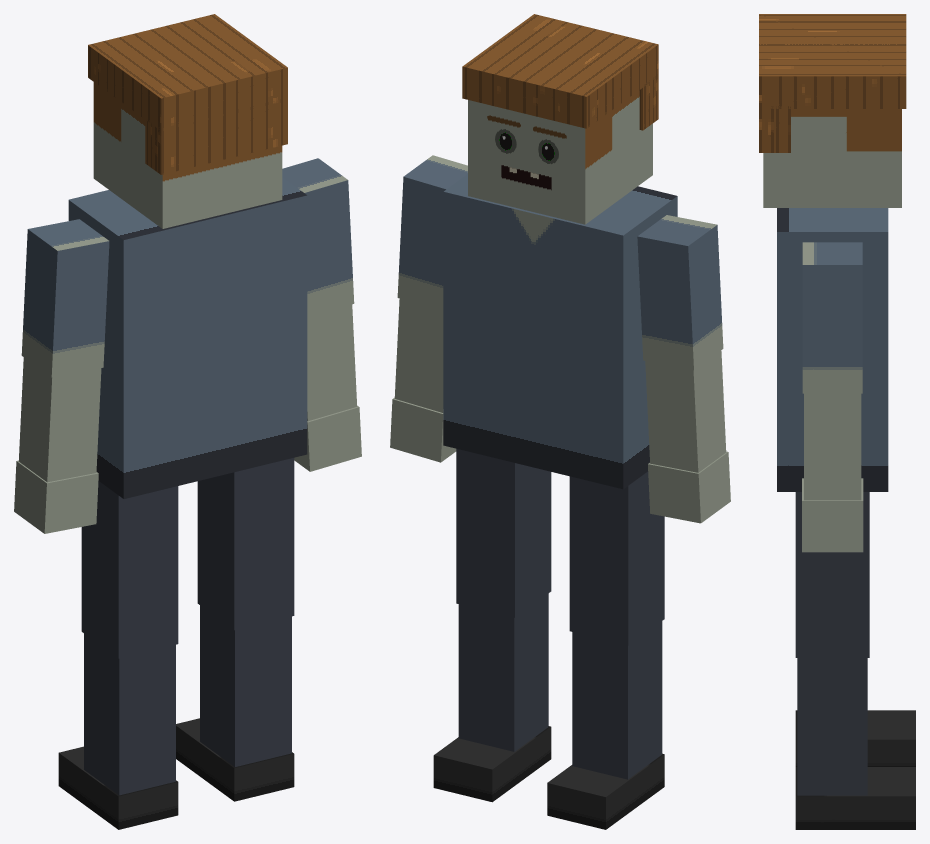
The model's file is hair_short.glb.
3 views of the same model, side by side, from view 1: azimuth 30°, elevation 25°; view 2: azimuth 150°, elevation 25°; view 3: azimuth 270°, elevation 25° (orthographic). The views are drawn at different scales.
Parts seen in each view (by area): view 1: block_torso, block_hair-cap, block_thigh.L, block_thigh.R, block_head, block_shin.L, block_shin.R, block_upper_arm.L, block_forearm.L, block_upper_arm.R, block_hair-back, block_forearm.R (+4 smaller); view 2: block_torso, block_head, block_hair-cap, block_thigh.L, block_thigh.R, block_shin.R, block_shin.L, block_upper_arm.L, block_forearm.L, block_upper_arm.R, block_foot.R, block_foot.L (+4 smaller); view 3: block_torso, block_hair-cap, block_head, block_shin.R, block_upper_arm.R, block_thigh.R, block_forearm.R, block_foot.R, block_hand.R, block_foot.L, block_hair-back.
Boxes of the visible parts, x1,y1,x2,y2 form: block_torso: (68,177,307,498); block_hair-cap: (88,14,287,130); block_thigh.L: (81,481,178,658); block_thigh.R: (197,458,294,630); block_head: (93,82,282,228); block_shin.L: (84,633,175,795); block_shin.R: (200,605,291,766); block_upper_arm.L: (21,219,109,377); block_forearm.L: (18,357,101,482); block_upper_arm.R: (282,158,354,317); block_hair-back: (145,98,287,174); block_forearm.R: (307,304,357,421); block_torso: (443,174,677,489); block_head: (468,90,652,224); block_hair-cap: (462,14,658,128); block_thigh.L: (569,471,664,645); block_thigh.R: (456,448,551,617); block_shin.R: (458,593,548,751); block_shin.L: (572,621,662,779); block_upper_arm.L: (637,215,723,369); block_forearm.L: (645,350,726,472); block_upper_arm.R: (397,155,467,311); block_foot.R: (433,726,551,802); block_foot.L: (547,753,664,829); block_torso: (777,208,888,491); block_hair-cap: (759,14,906,108); block_head: (763,109,901,207); block_shin.R: (797,658,867,795); block_upper_arm.R: (802,242,862,393); block_thigh.R: (795,492,869,657); block_forearm.R: (804,393,861,500); block_foot.R: (795,767,915,829); block_hand.R: (802,478,863,552); block_foot.L: (795,710,915,766); block_hair-back: (759,106,790,152).
Bounding box in the file's own units: 0.7948 × 1.77 × 0.339.
1 material, 1 textured.
